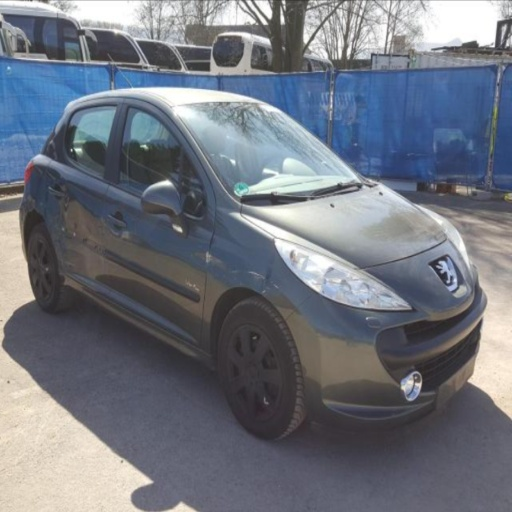dent: (50, 185, 101, 286)
scratch: (248, 270, 284, 293), (60, 224, 81, 237), (209, 250, 225, 265), (49, 186, 67, 199), (198, 250, 209, 264), (259, 286, 268, 297)
